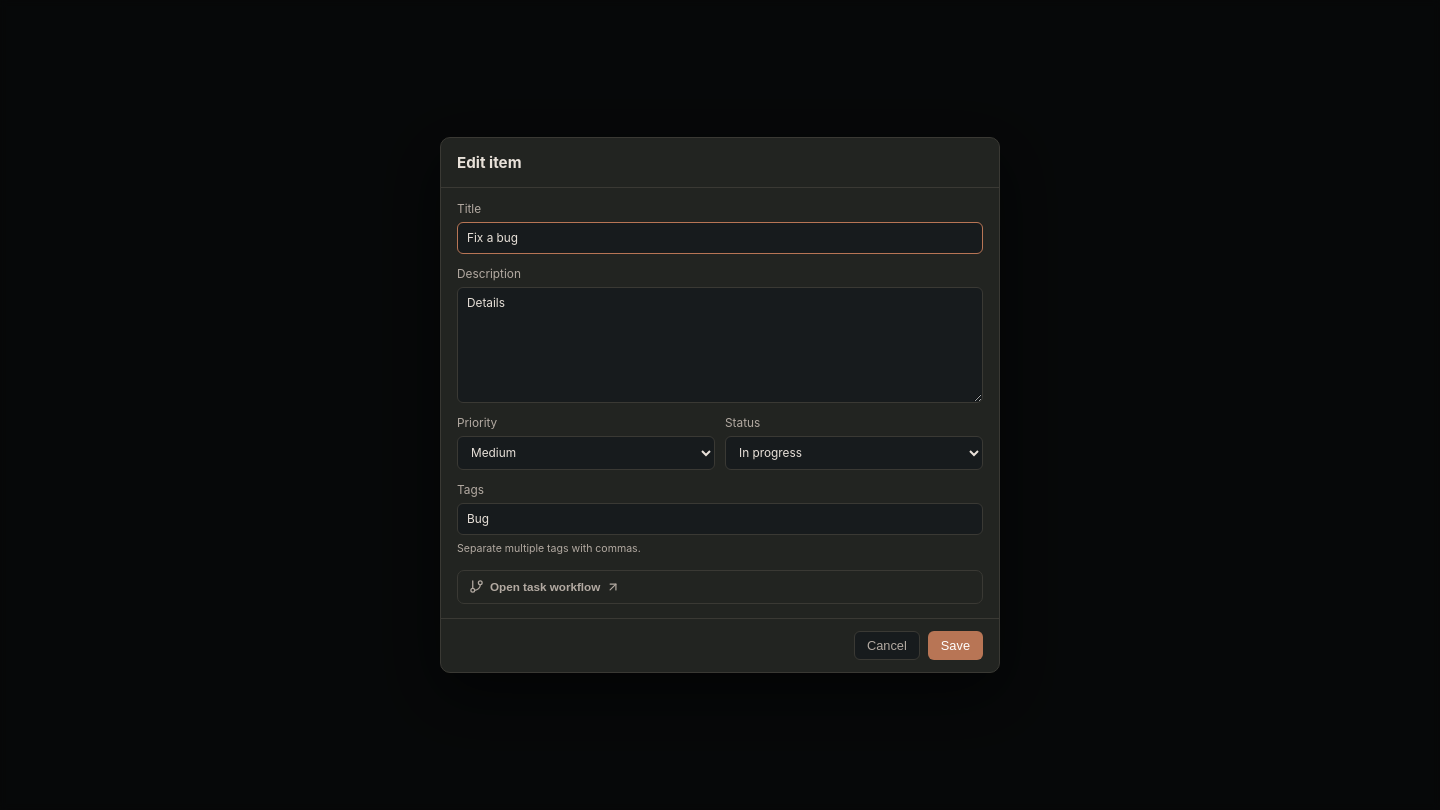
Test: independent task workflow › updates the branch action after an external checkout and keeps keyboard focus in the visible dialog
Click the button "Open task workflow".
click(545, 587)  # box [457,570,983,604]
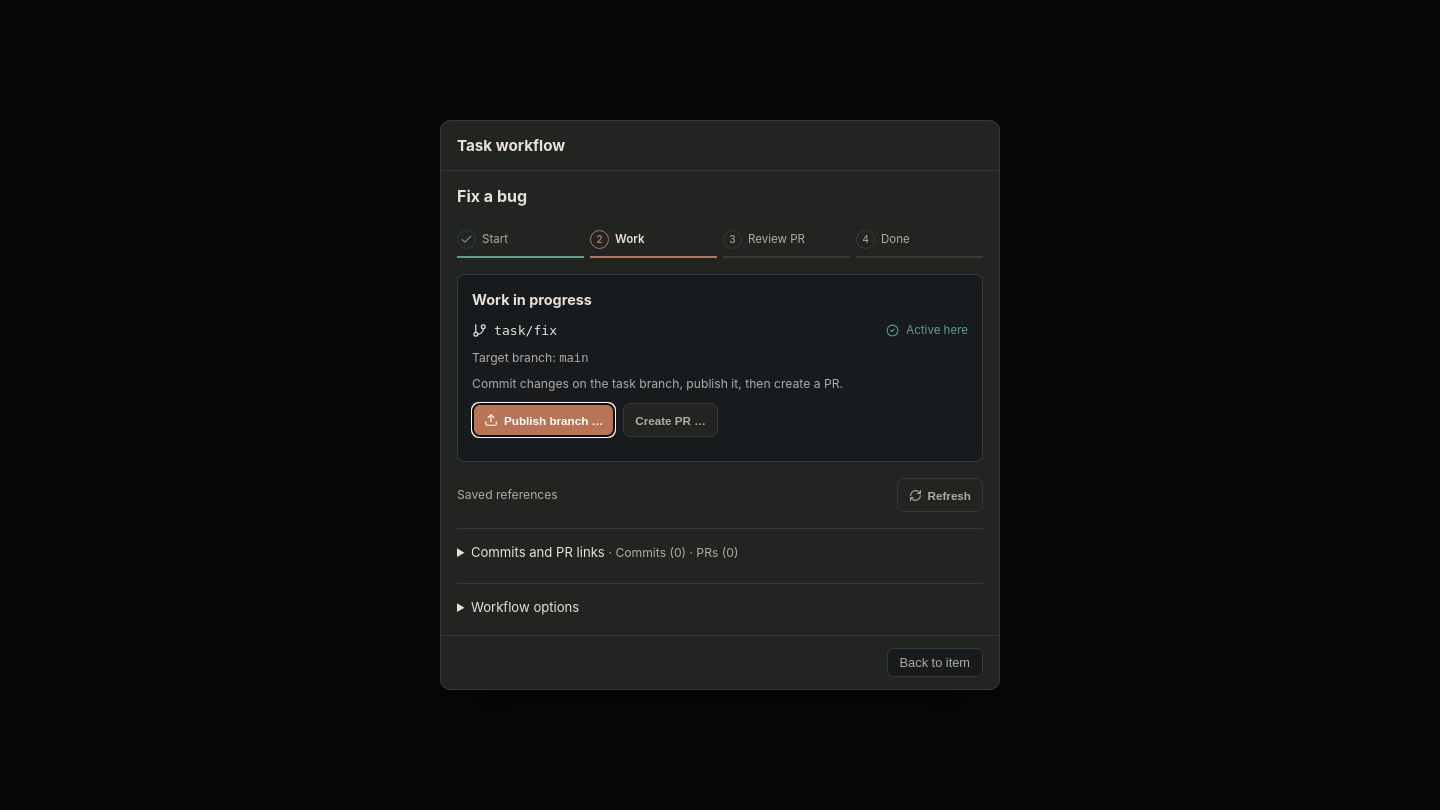
Expected: the button "Publish branch …" is shown, [472,403,615,437]
